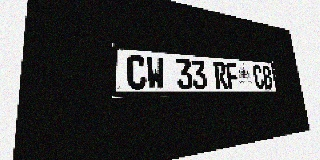3: (176, 59, 193, 89), (191, 60, 207, 89)
B: (261, 65, 274, 88)
C: (126, 55, 147, 90), (252, 65, 265, 88)
F: (225, 63, 240, 89)
R: (213, 62, 228, 89)
W: (146, 56, 165, 89)
